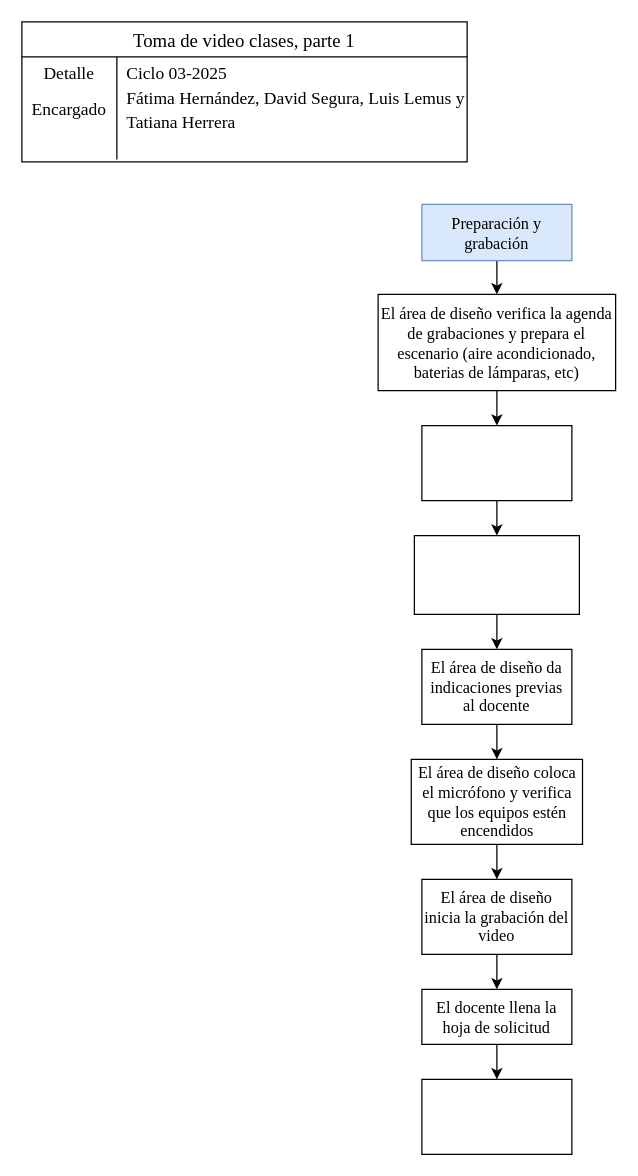
This 638x1176 diagram has some shape labels left out. Each missing label, with the box of its shape:
El diseñador completa la segunda parte: (421, 1078, 572, 1154)
El área de diseño recibe al docente y le brinda asistencia con materiales: (413, 534, 579, 614)
Revisar que la memoria SD tenga suficiente espacio: (421, 424, 572, 501)
